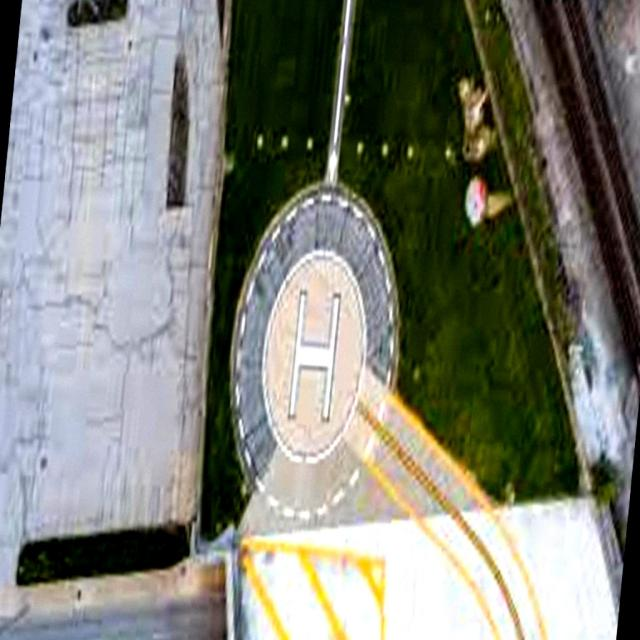helipad: (258, 244, 370, 463)
